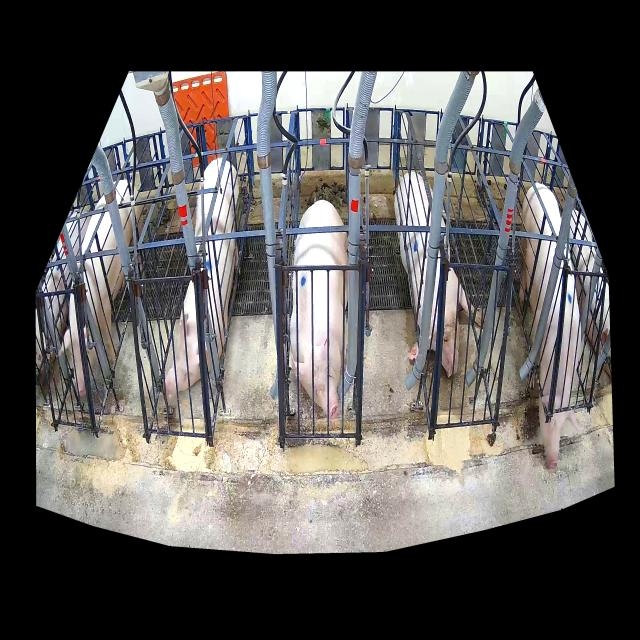pig: (395, 172, 482, 378), (520, 184, 582, 469), (165, 159, 239, 395), (59, 180, 133, 396), (290, 200, 348, 417)
